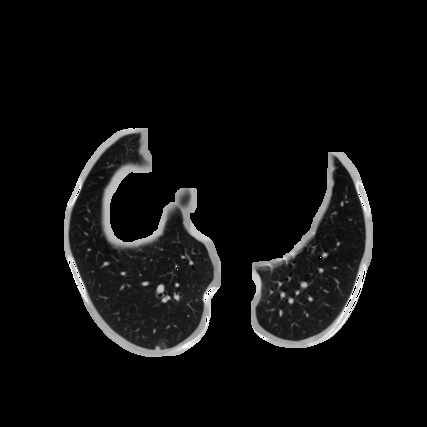PN: (155, 345, 159, 349)
